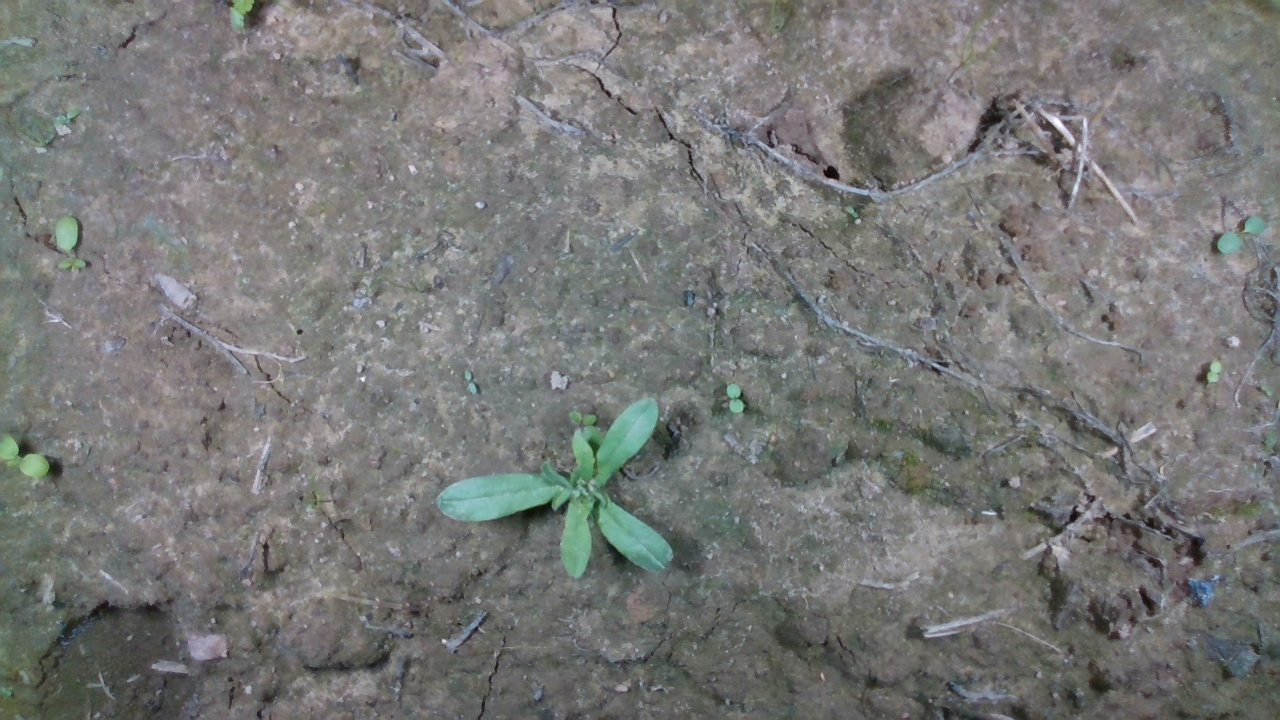weed: (1216, 212, 1267, 256), (715, 379, 765, 422)
